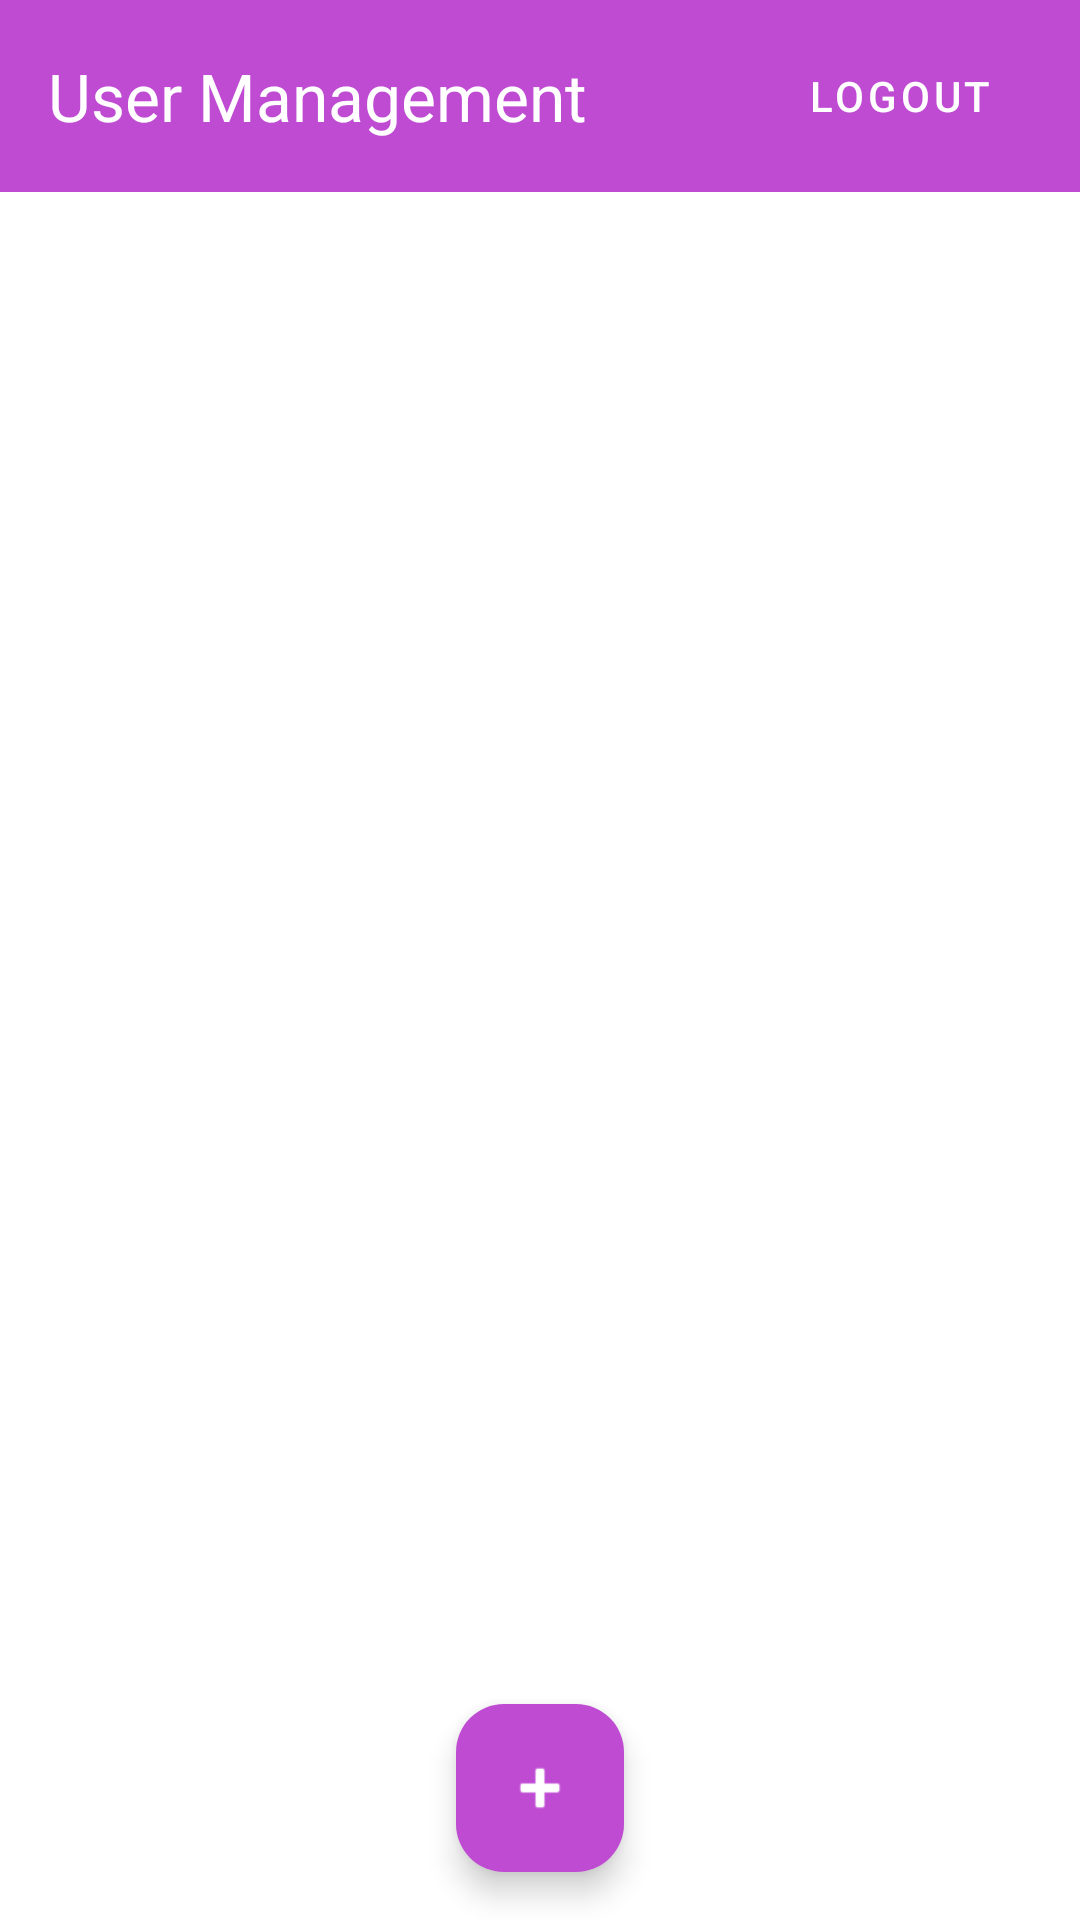

Where to tap for icons on this 1080 × 1920 app screen, as [x,y]:
Add User: [540,1788]
